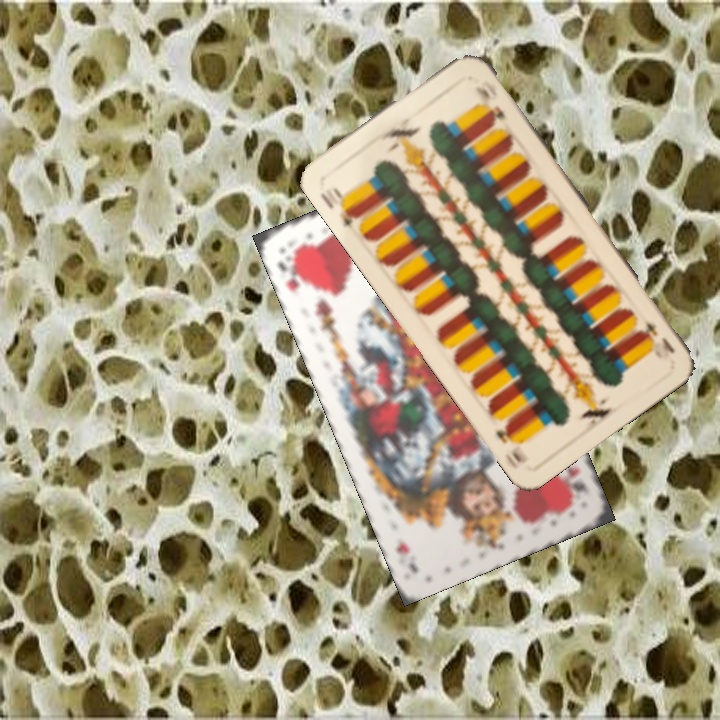E10: (316, 183, 362, 229), (640, 315, 678, 356)
HK: (274, 247, 309, 295), (562, 462, 590, 497)
